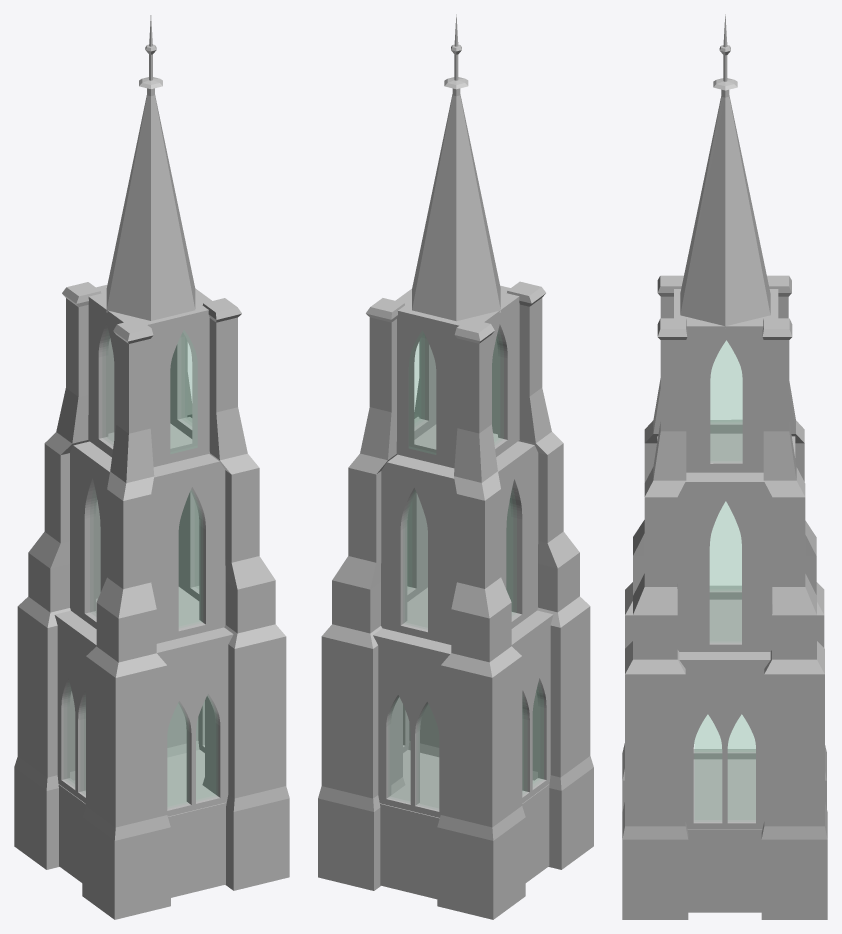
The model's file is mpkerktoren.obj.
The picture shows the model from 3 angles, left to right: view 1: azimuth 30°, elevation 25°; view 2: azimuth 150°, elevation 25°; view 3: azimuth 270°, elevation 25°; orthographic projection.
Visible parts, largest first — view 1: Box17, Box16, Box18, Box21, NGon01, Box23, Box19, Box04, glas09, Box20, glas01, Box22 (+6 smaller); view 2: Box18, Box03, Box17, Box21, NGon01, Box23, Box19, Box04, glas08, Box20, glas, glas04 (+6 smaller); view 3: Box16, Box03, NGon01, Box21, Box04, Box19, Box23, glas10, glas06, glas02, Box20, Box17 (+6 smaller).
Boxes of the visible parts, x1,y1,x2,y2 form: Box17: [82, 319, 170, 919]; Box16: [202, 298, 289, 890]; Box18: [14, 282, 101, 869]; Box21: [70, 453, 225, 643]; NGon01: [106, 15, 195, 320]; Box23: [88, 306, 209, 466]; Box19: [57, 628, 228, 816]; Box04: [58, 749, 226, 897]; glas09: [168, 696, 215, 806]; Box20: [54, 587, 233, 661]; glas01: [171, 331, 196, 453]; Box22: [70, 417, 224, 487]; Box18: [437, 318, 525, 919]; Box03: [318, 298, 405, 890]; Box17: [507, 281, 593, 869]; Box21: [381, 452, 538, 644]; NGon01: [412, 14, 501, 321]; Box23: [396, 306, 519, 468]; Box19: [378, 627, 550, 817]; Box04: [380, 750, 549, 899]; glas08: [390, 697, 438, 807]; Box20: [373, 587, 553, 662]; glas: [409, 331, 435, 454]; glas04: [405, 491, 427, 627]; Box16: [622, 318, 688, 919]; Box03: [761, 318, 827, 919]; NGon01: [680, 14, 770, 326]; Box21: [677, 492, 772, 651]; Box04: [687, 759, 762, 912]; Box19: [685, 671, 764, 829]; Box23: [686, 336, 763, 472]; glas10: [695, 715, 755, 819]; glas06: [710, 502, 741, 640]; glas02: [711, 341, 741, 460]; Box20: [679, 585, 770, 670]; Box17: [622, 275, 683, 811].
Size of the model in its own units: 338 by 1565 by 337.
